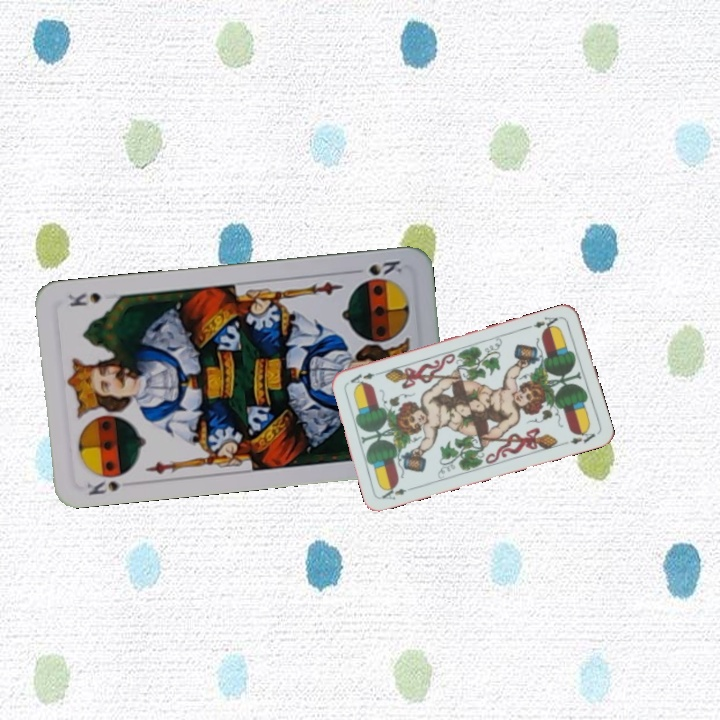EA: (378, 481, 417, 502), (529, 312, 564, 333)
SK: (364, 256, 405, 278), (82, 477, 123, 498)
